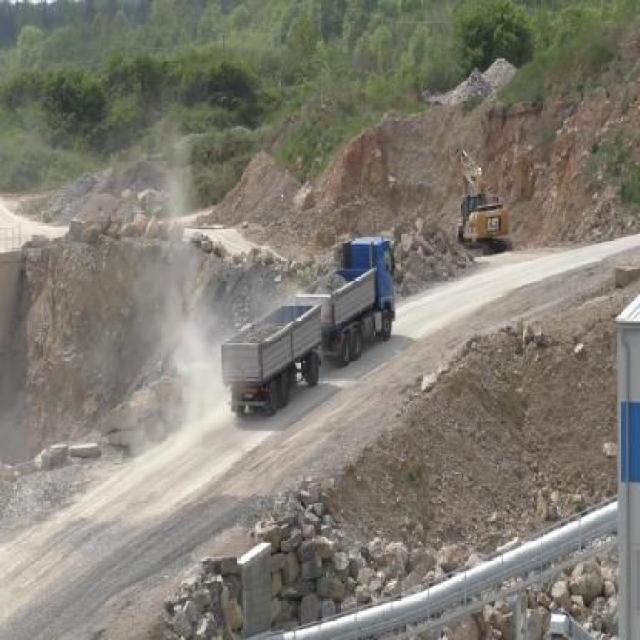Dump Truck: (218, 232, 398, 416)
Excavator: (447, 143, 515, 254)
